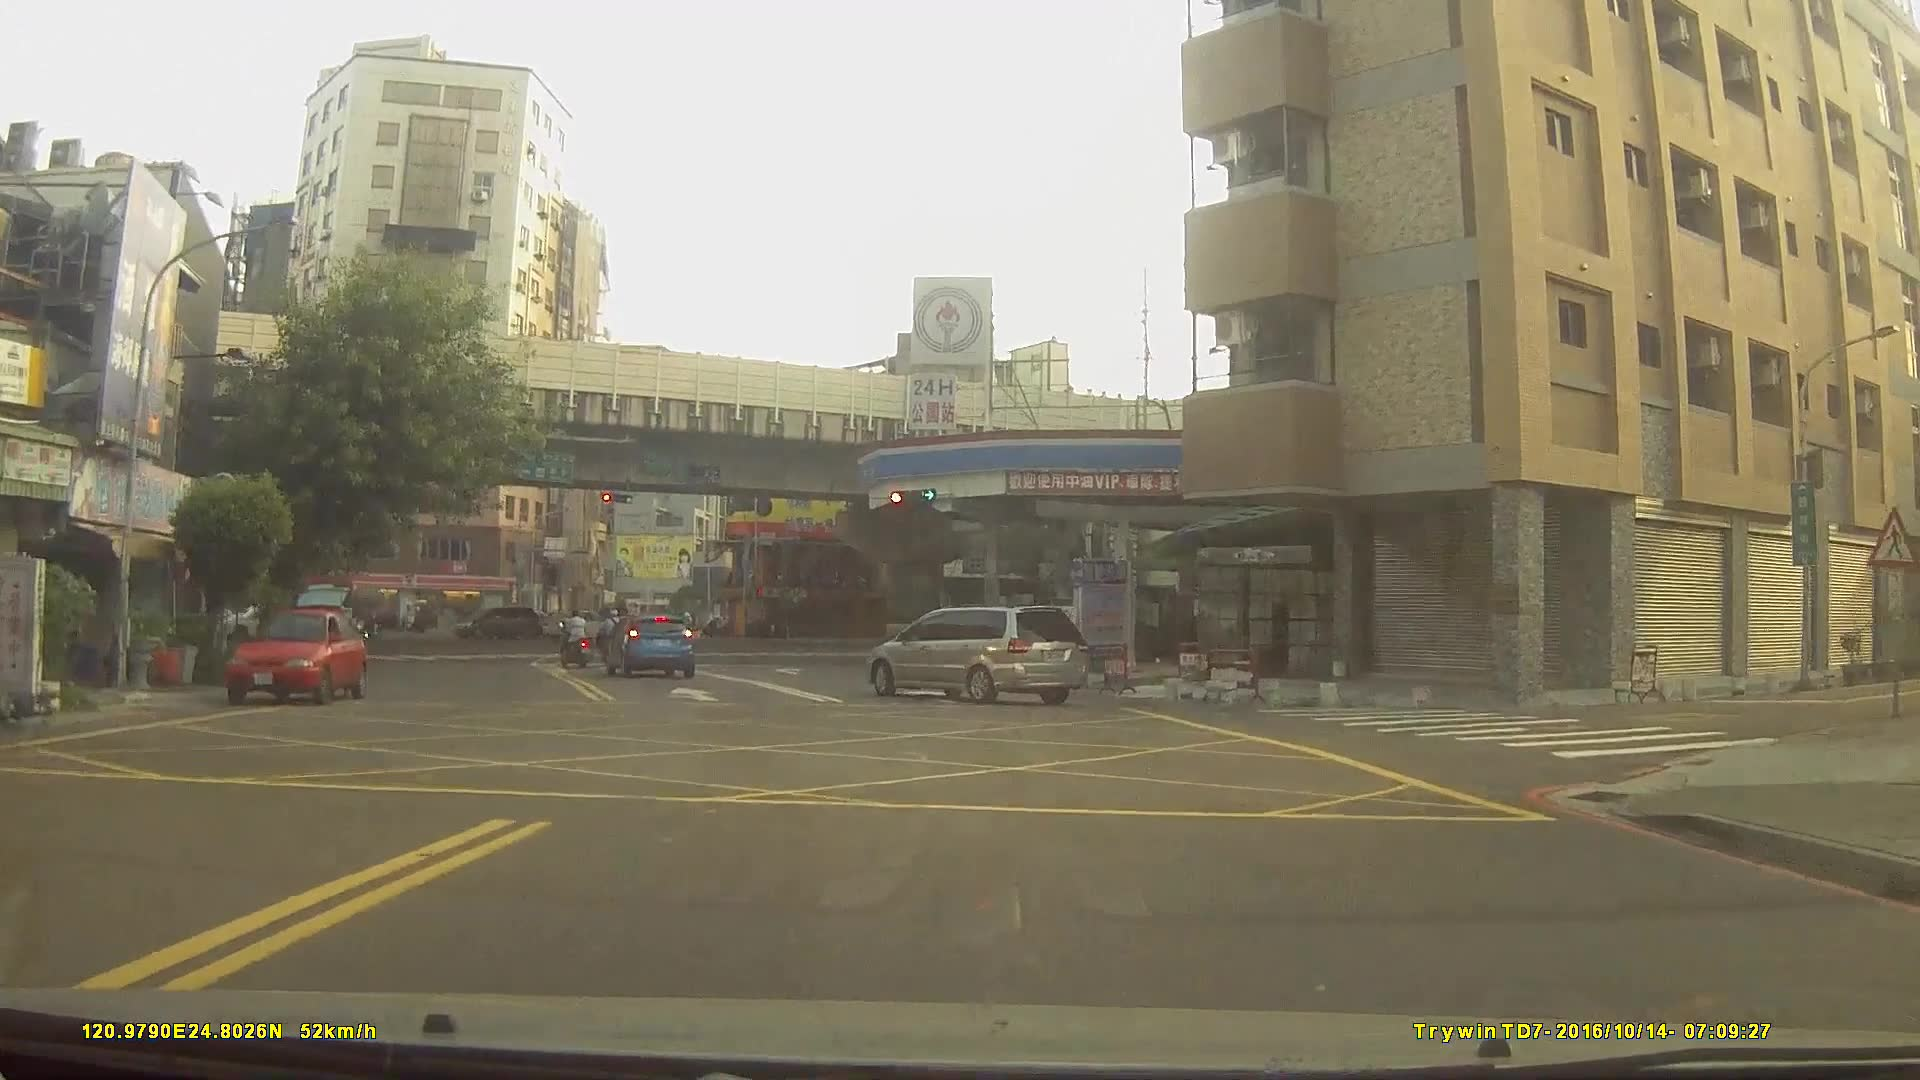rider: (556, 608, 589, 668)
vehicle: (866, 601, 1088, 701), (223, 603, 365, 704), (600, 608, 696, 674), (452, 605, 543, 641), (540, 604, 618, 637)
